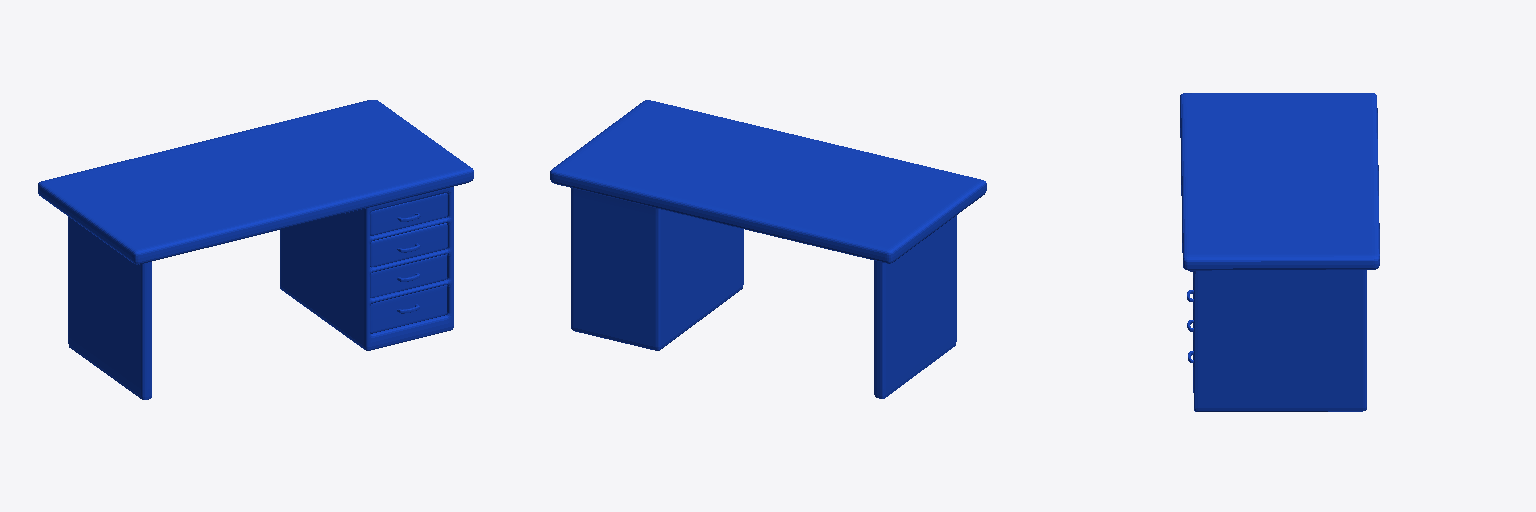
The model's file is Stylized_Desk.obj.
3 views of the same model, side by side, from view 1: azimuth 30°, elevation 25°; view 2: azimuth 150°, elevation 25°; view 3: azimuth 270°, elevation 25° (orthographic).
Parts seen in each view (by area): view 1: Desk_Body, Desk_Drawer_04, Desk_Drawer_02, Desk_Drawer_03, Desk_Drawer_01; view 2: Desk_Body; view 3: Desk_Body.
Boxes of the visible parts, x1,y1,x2,y2 form: Desk_Body: [38, 100, 473, 399]; Desk_Drawer_04: [370, 285, 446, 333]; Desk_Drawer_02: [370, 223, 447, 267]; Desk_Drawer_03: [370, 254, 446, 297]; Desk_Drawer_01: [370, 193, 447, 235]; Desk_Body: [550, 100, 986, 398]; Desk_Body: [1180, 93, 1379, 411].
Size of the model in its own units: 118 by 53.59 by 59.87.